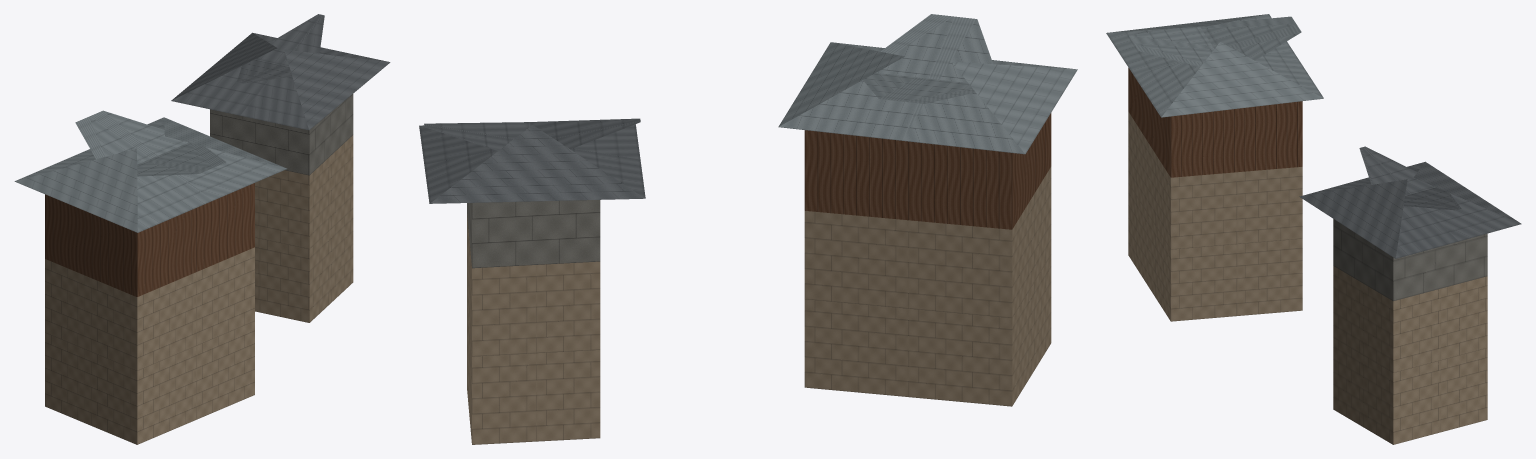
File: bld_c22_32_370.gltf
The picture shows the model from 3 angles, left to right: view 1: azimuth 30°, elevation 25°; view 2: azimuth 150°, elevation 25°; view 3: azimuth 270°, elevation 25°; orthographic projection. The views are drawn at different scales.
Parts seen in each view (by area): view 1: bld_c22_32_370; view 2: bld_c22_32_370; view 3: bld_c22_32_370.
Boxes of the visible parts, x1,y1,x2,y2 form: bld_c22_32_370: (14, 14, 390, 444); bld_c22_32_370: (419, 14, 1077, 444); bld_c22_32_370: (1106, 14, 1521, 444).
Bounding box in the file's own units: 14.09 × 8.5 × 11.8.
Materials: 5 (5 with a texture image).
